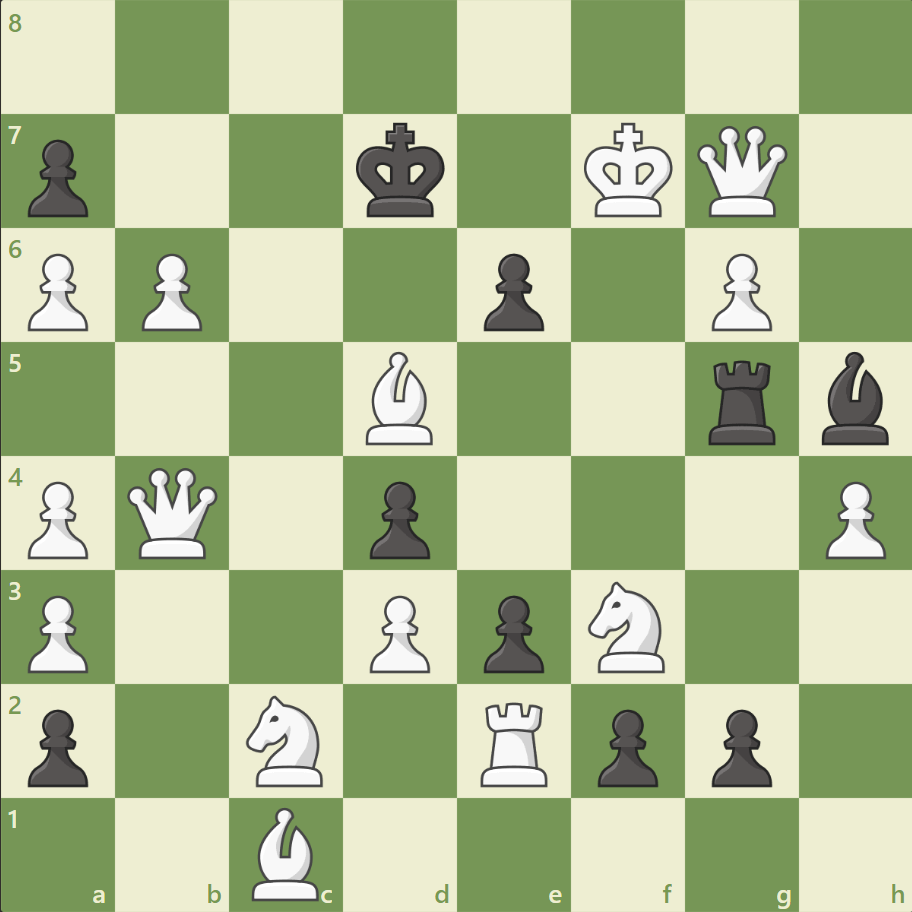B: (244, 801, 328, 904), (358, 347, 442, 449)
K: (579, 117, 679, 225)
N: (238, 688, 335, 791), (579, 575, 676, 677)
P: (20, 246, 95, 337), (133, 246, 208, 337), (701, 246, 776, 337), (20, 473, 95, 564), (20, 586, 95, 677), (815, 473, 889, 564), (361, 586, 435, 677)
Q: (691, 122, 790, 222), (124, 463, 223, 562)
R: (473, 693, 556, 790)
b: (812, 347, 896, 449)
k: (351, 117, 451, 225)
p: (20, 132, 95, 223), (474, 246, 549, 337), (474, 586, 549, 677), (20, 700, 95, 791), (701, 700, 776, 791), (361, 473, 435, 564), (588, 700, 662, 791)
r: (700, 352, 783, 449)
